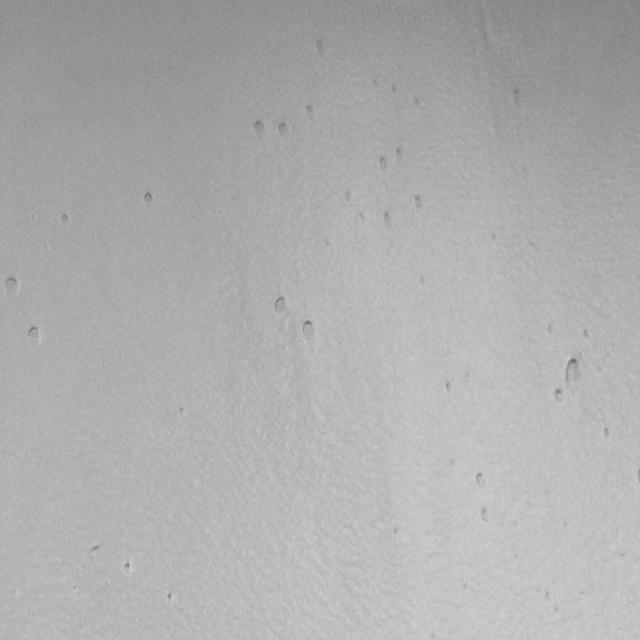pin holes: (298, 317, 319, 349), (2, 274, 24, 302), (565, 357, 585, 385), (25, 323, 45, 350), (248, 116, 267, 142), (310, 35, 330, 58), (272, 293, 291, 317), (509, 84, 527, 108), (477, 504, 496, 526), (376, 154, 394, 175), (140, 190, 157, 212), (303, 102, 320, 124), (552, 385, 568, 408), (410, 192, 426, 214), (380, 211, 396, 232), (274, 120, 290, 140), (473, 470, 489, 490), (58, 212, 73, 232), (394, 145, 408, 164), (386, 82, 400, 100), (443, 377, 456, 396), (89, 542, 105, 557), (599, 426, 612, 444), (122, 562, 136, 576), (178, 404, 190, 420), (164, 590, 176, 604)
